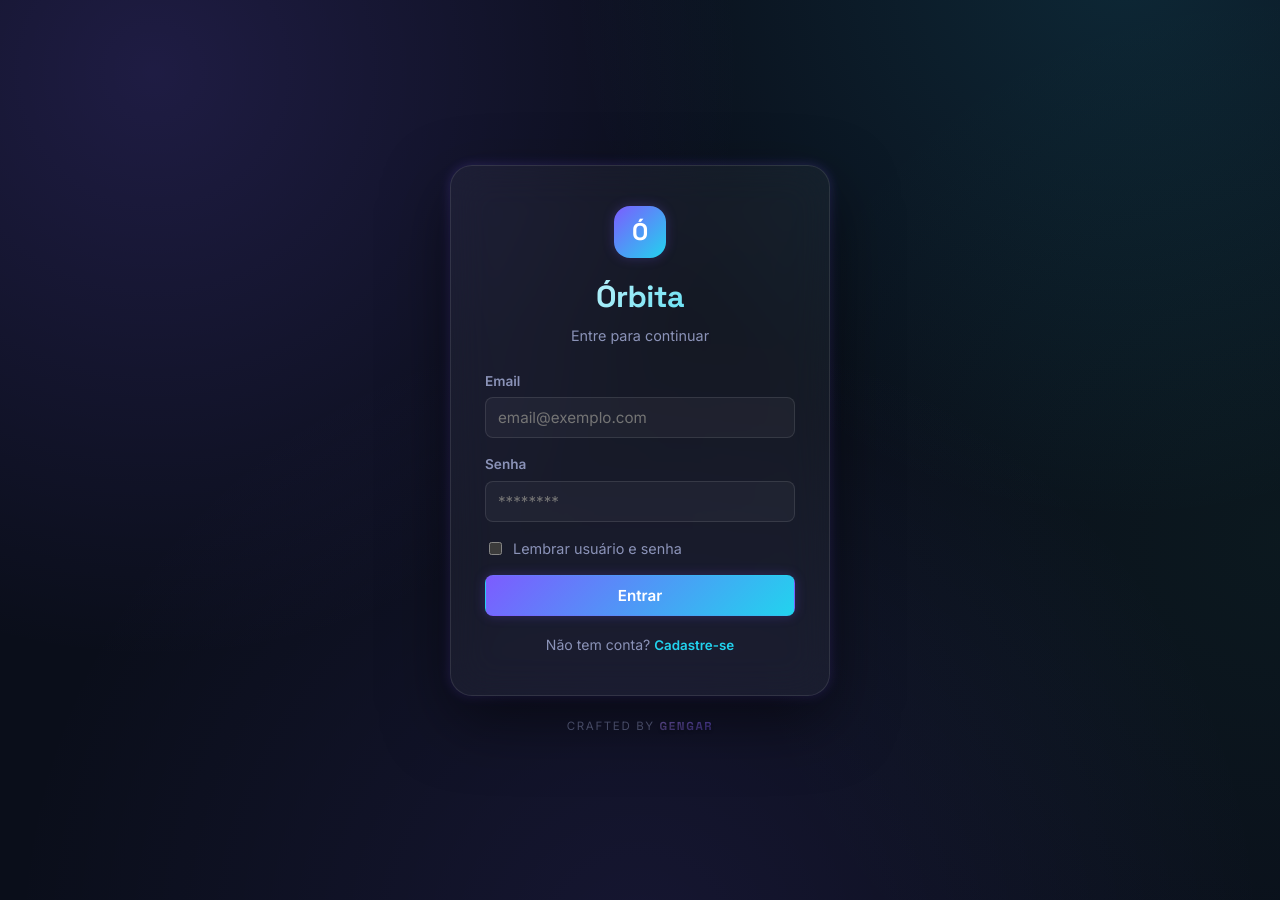
Test: Login › mostra mensagem de erro quando o login falha
Type "teste@example.com" into the field labelled "Email" at (640, 418), box [485,397,795,438]
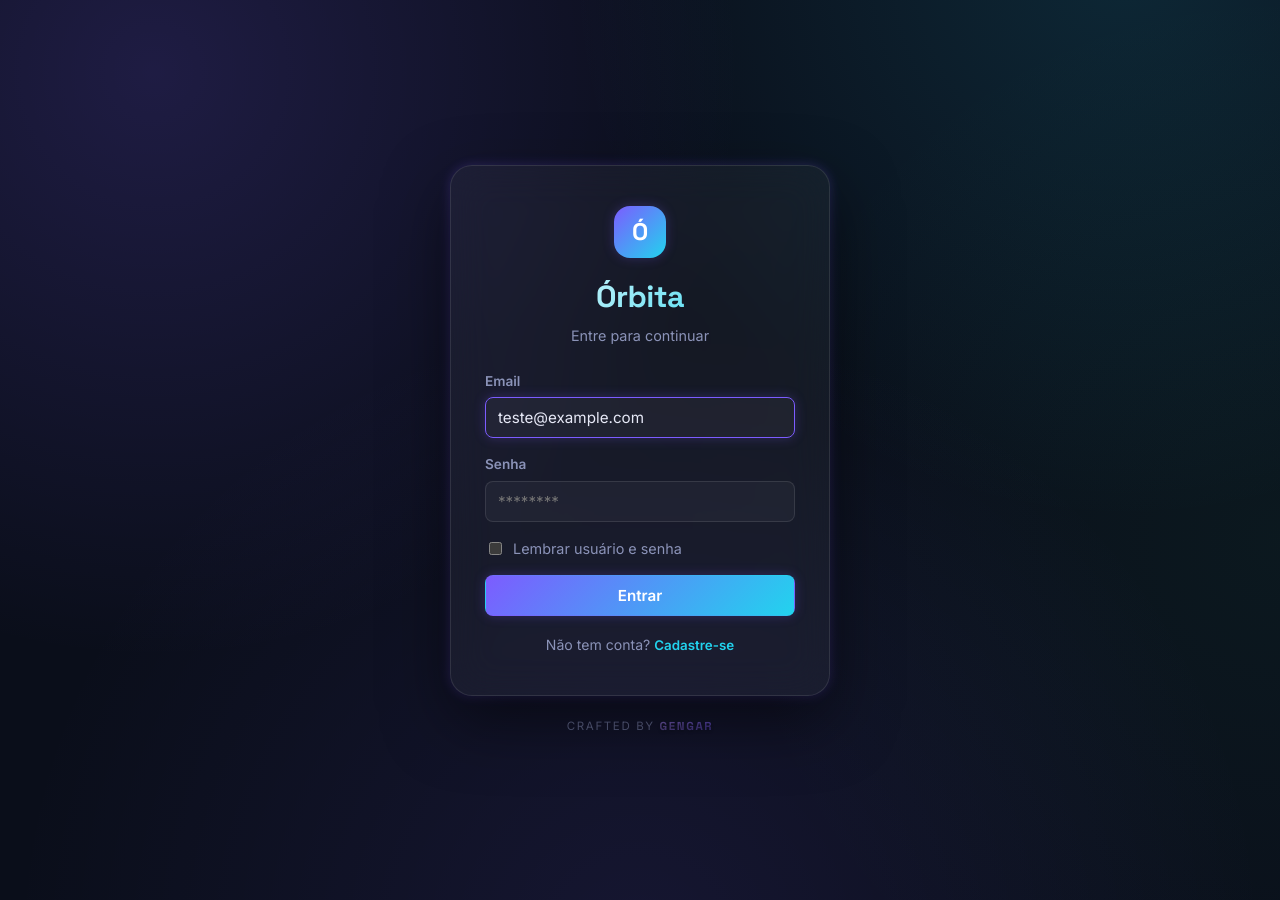
Type "senha-errada" into the password field labelled "Senha" at (640, 501), box [485,480,795,522]
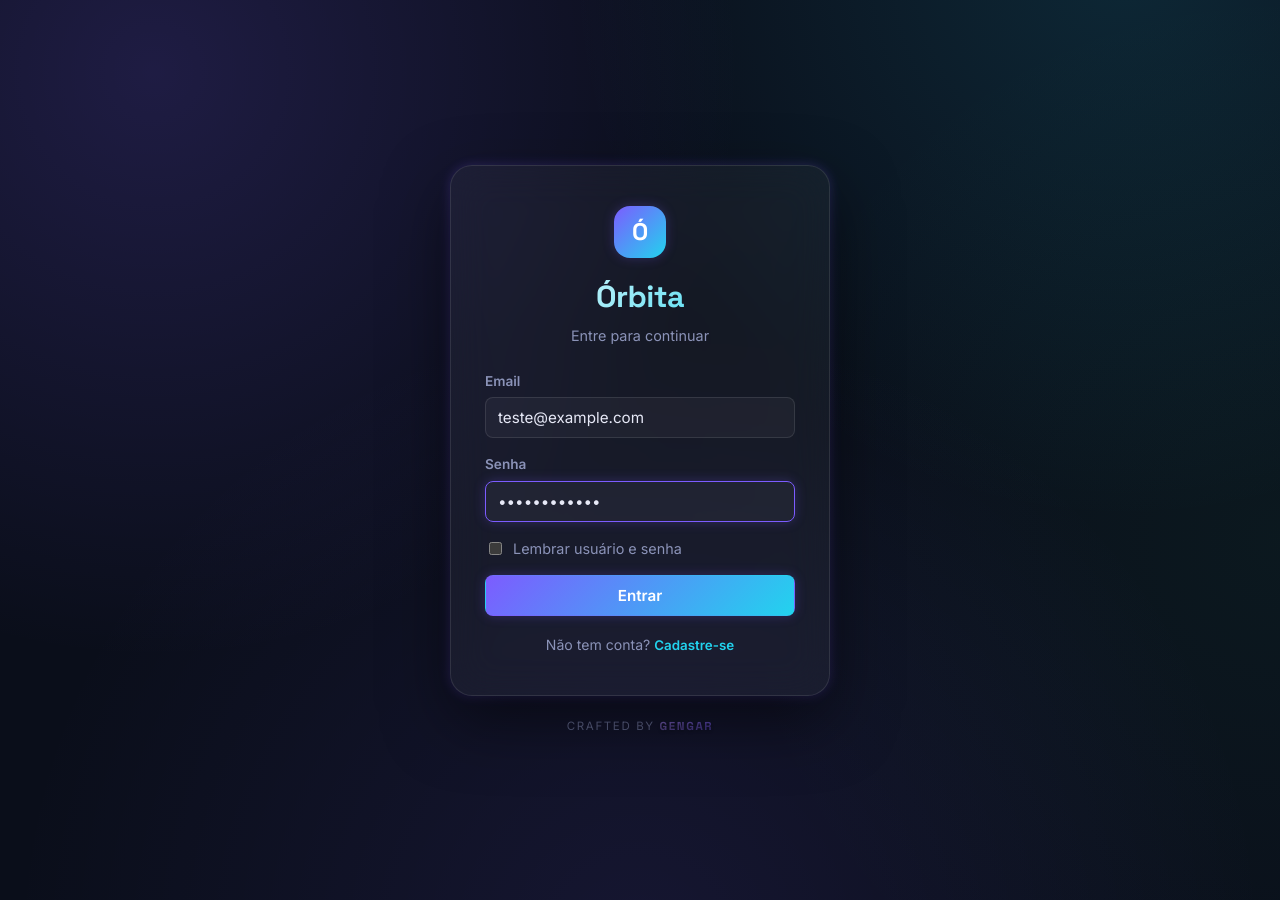
Click the button "Entrar" at (640, 596), box [485,575,795,616]
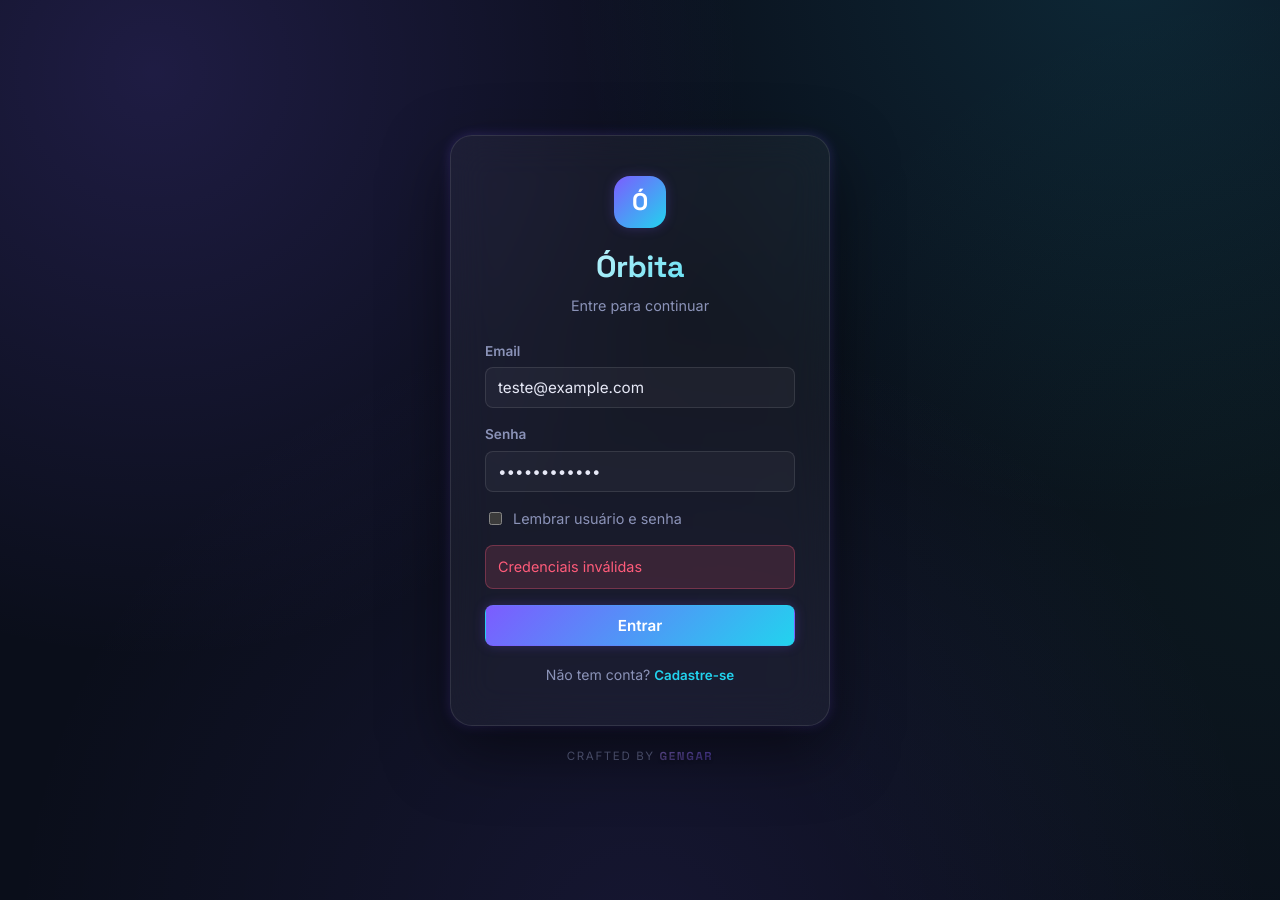
Check: the text "Credenciais inválidas" is shown, box [485,545,795,589]
